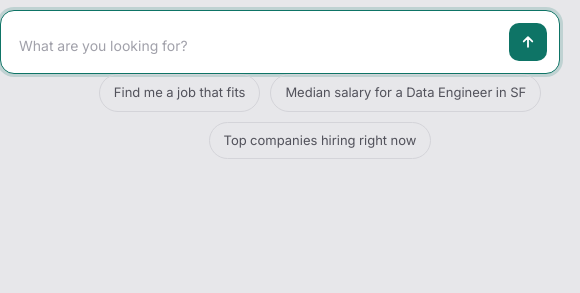
Test: Should_QueueLandingDraftUnderNewKey_When_CappedOnLanding
Type "Median salary in SF" into the text box labelled "What are you looking for" at (259, 46), box top-left (19, 30), bottom-right (499, 61)
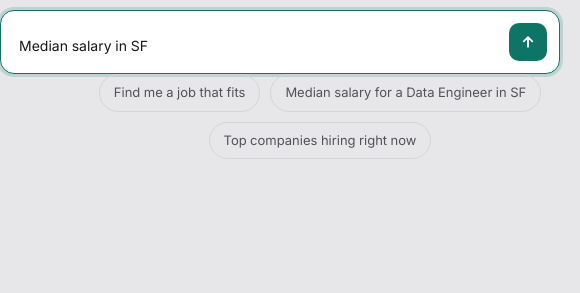
Press Enter in the text box named "What are you looking for", box top-left (19, 30), bottom-right (499, 61)
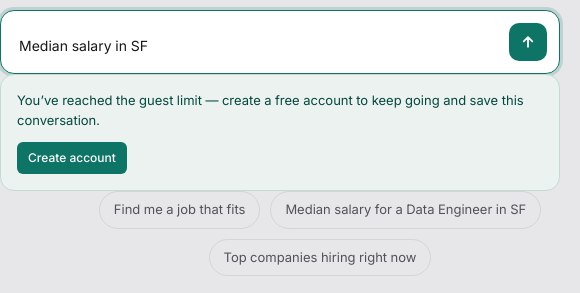
Expected: the text "reached the guest limit" is shown, top-left (17, 92), bottom-right (524, 128)
